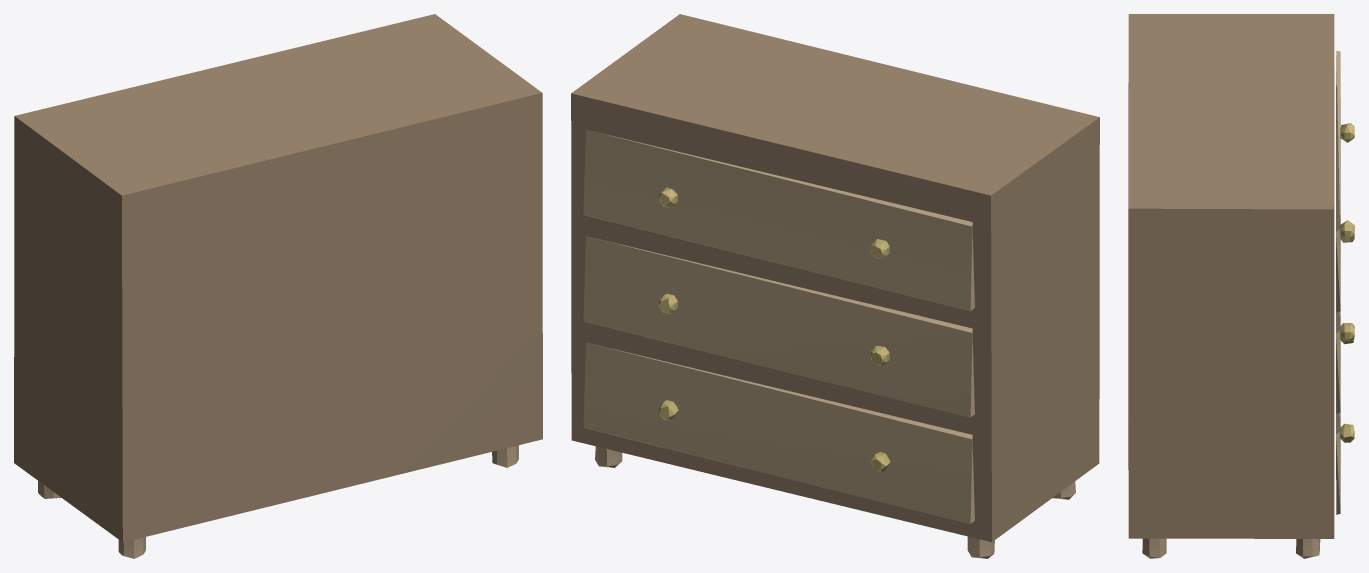
File: furn_dresser__walnut_low.glb
3 views of the same model, side by side, from view 1: azimuth 30°, elevation 25°; view 2: azimuth 150°, elevation 25°; view 3: azimuth 270°, elevation 25° (orthographic). The views are drawn at different scales.
Size of the model in its own units: 0.9935 by 0.8469 by 0.4871.
